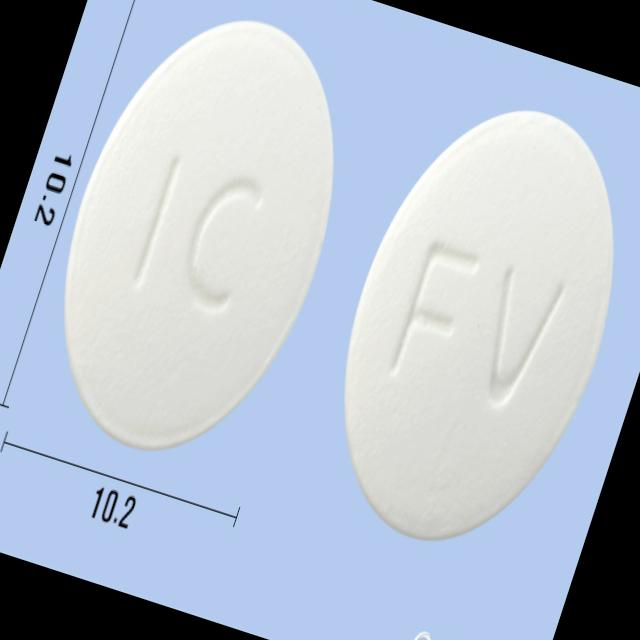Famviro: (15, 0, 386, 481), (293, 74, 640, 577)
